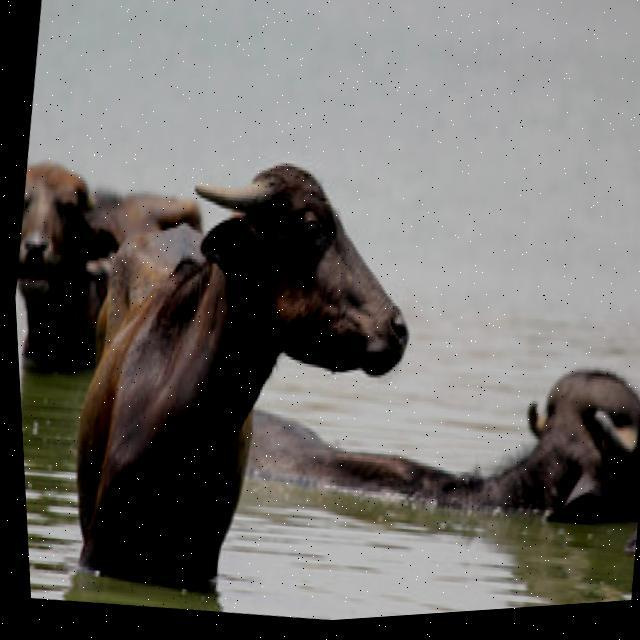Buffalo: (45, 120, 449, 615)
